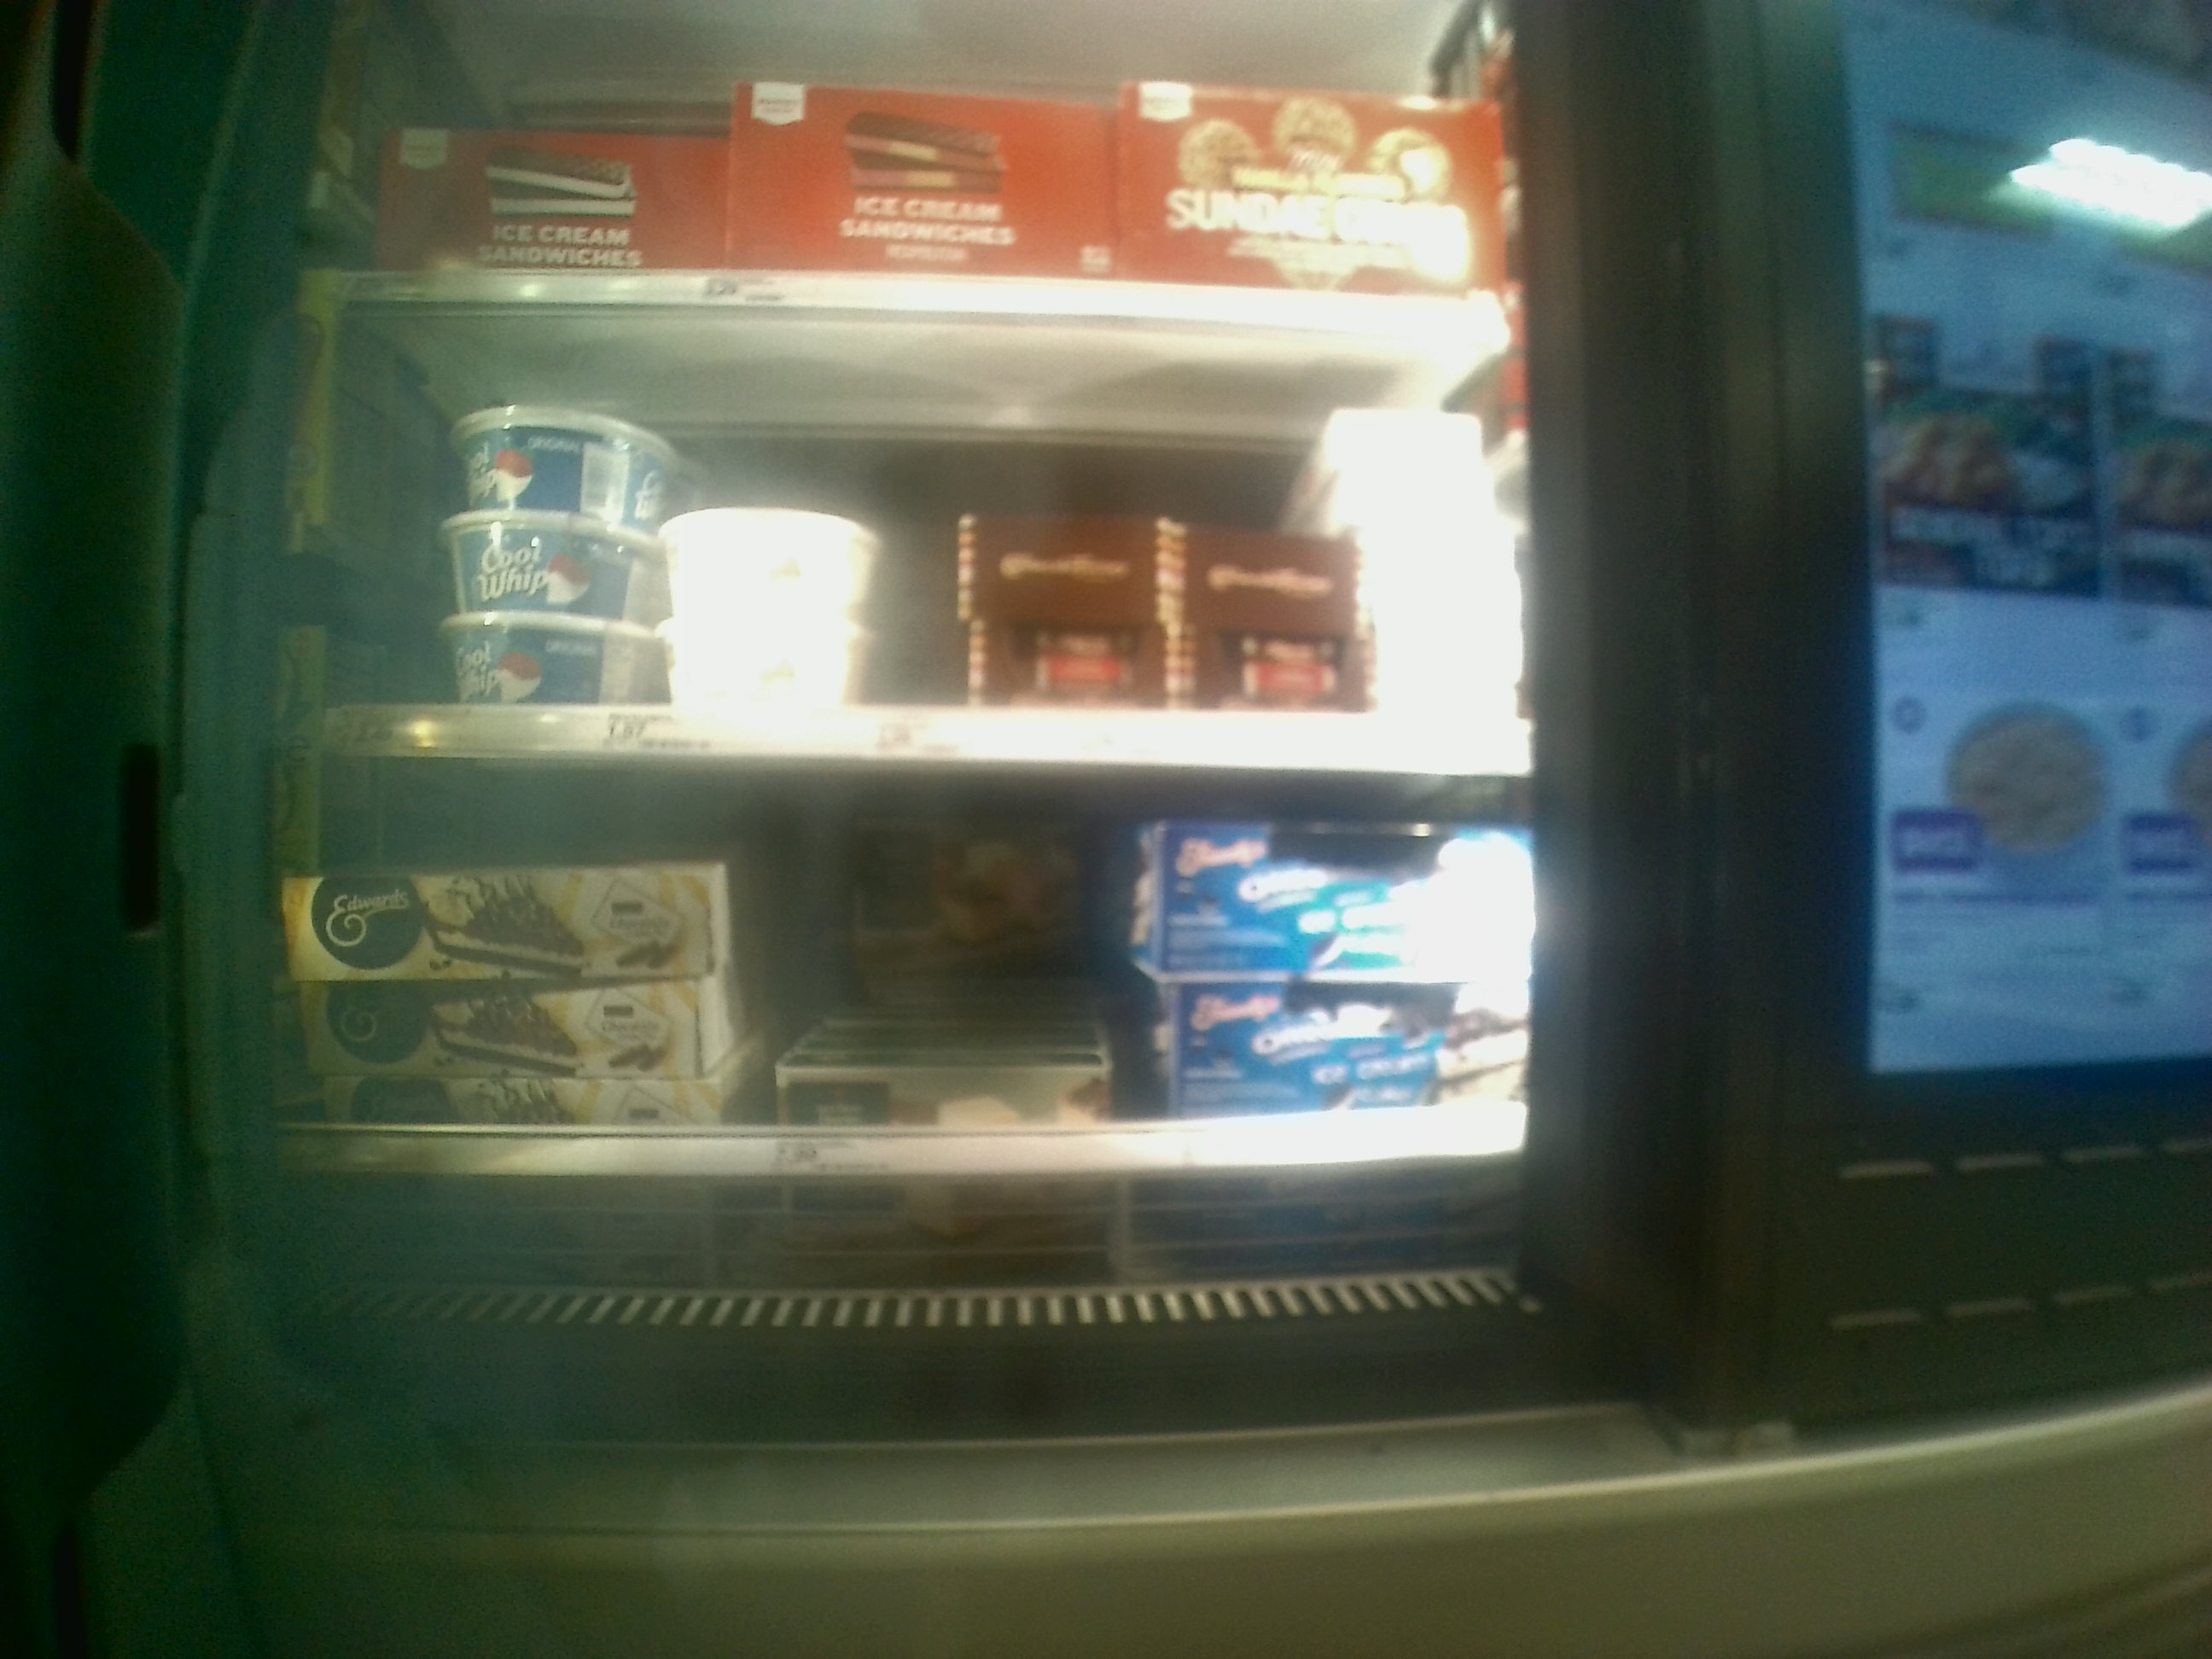ice-cream-shelf: (258, 763, 1524, 1208), (314, 301, 1529, 758)
